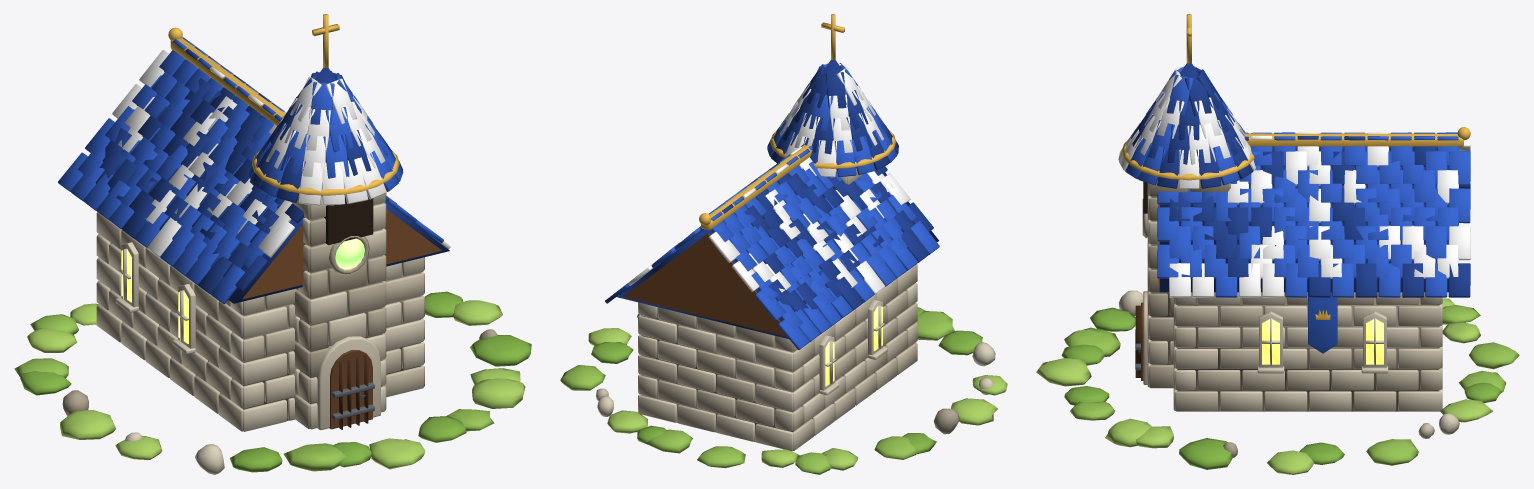
File: b_chapel.glb
The picture shows the model from 3 angles, left to right: view 1: azimuth 30°, elevation 25°; view 2: azimuth 150°, elevation 25°; view 3: azimuth 270°, elevation 25°; orthographic projection. The views are drawn at different scales.
Parts seen in each view (by area): view 1: root_matte#d6ccb6, naveRoofPivot_team, root_matte#c9bea8, naveRoofPivot_team_dark, root_matte#a8d060, root_team_light, naveRoofPivot_team_light, root_matte#7fb243, root_matte#b8ad98, root_team, naveRoofGableEnd, root_matte#a99e8a (+11 smaller); view 2: root_matte#c9bea8, naveRoofPivot_team, root_matte#d6ccb6, naveRoofPivot_team_dark, naveRoofGableEnd, naveRoofPivot_team_light, root_matte#94c252, root_team_dark, root_matte#a8d060, root_team_light, root_matte#7fb243, root_team (+5 smaller); view 3: naveRoofPivot_team, root_matte#d6ccb6, root_matte#c9bea8, naveRoofPivot_team_light, naveRoofPivot_team_dark, root_matte#a8d060, root_matte#94c252, root_matte#7fb243, root_team_dark, root_team, root_team_light, root_matte#8f8472 (+5 smaller).
Part boxes in pixels (x1,y1,x2,y2): root_matte#d6ccb6: [96, 193, 424, 474]; naveRoofPivot_team: [58, 37, 443, 303]; root_matte#c9bea8: [96, 195, 424, 431]; naveRoofPivot_team_dark: [95, 48, 449, 303]; root_matte#a8d060: [27, 300, 525, 469]; root_team_light: [266, 76, 386, 205]; naveRoofPivot_team_light: [112, 50, 450, 257]; root_matte#7fb243: [20, 291, 531, 472]; root_matte#b8ad98: [293, 193, 386, 428]; root_team: [248, 73, 403, 196]; naveRoofGableEnd: [242, 209, 441, 299]; root_matte#a99e8a: [62, 202, 497, 416]; root_matte#c9bea8: [596, 264, 917, 450]; naveRoofPivot_team: [648, 146, 939, 349]; root_matte#d6ccb6: [597, 168, 995, 451]; naveRoofPivot_team_dark: [605, 144, 938, 338]; naveRoofGableEnd: [623, 233, 786, 336]; naveRoofPivot_team_light: [628, 146, 910, 294]; root_matte#94c252: [560, 311, 954, 474]; root_team_dark: [767, 59, 898, 169]; root_matte#a8d060: [588, 328, 1007, 470]; root_team_light: [779, 62, 898, 177]; root_matte#7fb243: [591, 307, 982, 453]; root_team: [767, 63, 897, 177]; naveRoofPivot_team: [1157, 132, 1470, 297]; root_matte#d6ccb6: [1119, 183, 1459, 434]; root_matte#c9bea8: [1149, 183, 1442, 438]; naveRoofPivot_team_light: [1169, 132, 1470, 297]; naveRoofPivot_team_dark: [1159, 132, 1470, 297]; root_matte#a8d060: [1036, 298, 1492, 474]; root_matte#94c252: [1064, 305, 1519, 465]; root_matte#7fb243: [1061, 307, 1501, 469]; root_team_dark: [1131, 63, 1253, 188]; root_team: [1125, 66, 1337, 353]; root_team_light: [1118, 67, 1255, 188]; root_matte#8f8472: [1151, 196, 1438, 411].
Size of the model in its own units: 3.24 by 2.72 by 3.26.
